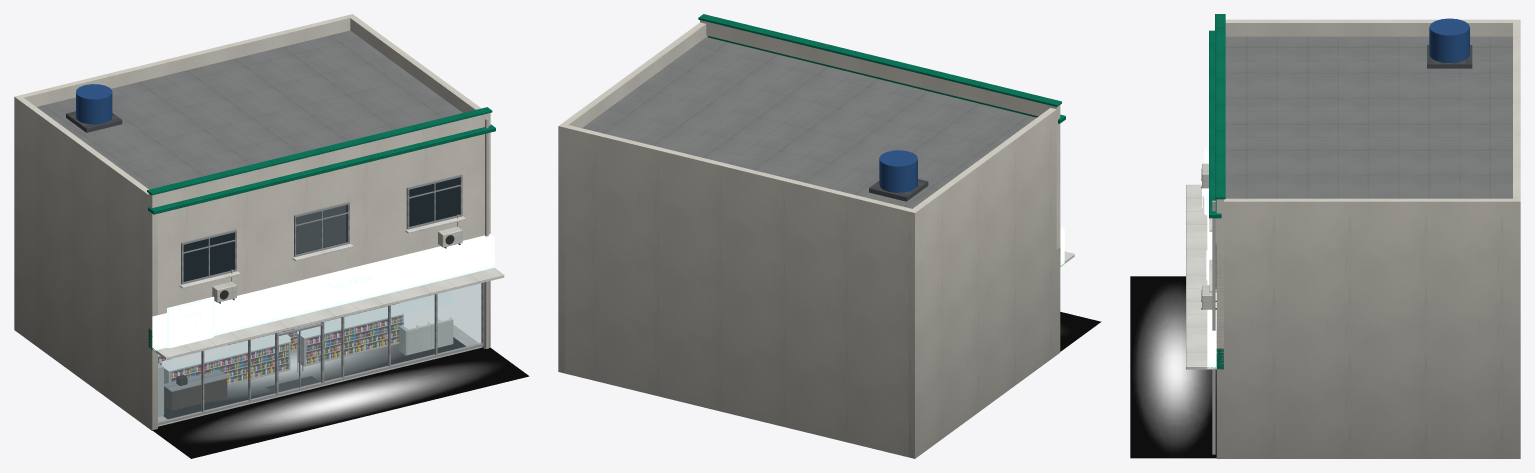
File: LM_SHOP_SevenEleven.glb
The picture shows the model from 3 angles, left to right: view 1: azimuth 30°, elevation 25°; view 2: azimuth 150°, elevation 25°; view 3: azimuth 270°, elevation 25°; orthographic projection. The views are drawn at different scales.
Parts seen in each view (by area): view 1: LM_SHOP_SevenEleven | Render wall, LM_SHOP_SevenEleven | Painted panel, LM_SHOP_SevenEleven | Shopfront glass, LM_SHOP_SevenEleven | Night wash, LM_SHOP_SevenEleven | Night glow sign, LM_SHOP_SevenEleven | Satin metal, LM_SHOP_SevenEleven | Upper floor glass, LM_SHOP_SevenEleven | Night glow shelves, LM_SHOP_SevenEleven | Night glow LED, LM_SHOP_SevenEleven | Plastic, LM_SHOP_SevenEleven | Floor tiles; view 2: LM_SHOP_SevenEleven | Render wall, LM_SHOP_SevenEleven | Painted panel, LM_SHOP_SevenEleven | Plastic, LM_SHOP_SevenEleven | Night wash; view 3: LM_SHOP_SevenEleven | Render wall, LM_SHOP_SevenEleven | Painted panel, LM_SHOP_SevenEleven | Night wash, LM_SHOP_SevenEleven | Plastic, LM_SHOP_SevenEleven | Night glow sign, LM_SHOP_SevenEleven | Satin metal.
Boxes of the visible parts, x1,y1,x2,y2 form: LM_SHOP_SevenEleven | Render wall: (14, 14, 490, 430); LM_SHOP_SevenEleven | Painted panel: (37, 30, 504, 416); LM_SHOP_SevenEleven | Shopfront glass: (158, 283, 481, 421); LM_SHOP_SevenEleven | Night wash: (152, 337, 529, 458); LM_SHOP_SevenEleven | Night glow sign: (152, 234, 494, 371); LM_SHOP_SevenEleven | Satin metal: (66, 111, 483, 425); LM_SHOP_SevenEleven | Upper floor glass: (183, 177, 460, 281); LM_SHOP_SevenEleven | Night glow shelves: (158, 303, 403, 383); LM_SHOP_SevenEleven | Night glow LED: (297, 206, 481, 343); LM_SHOP_SevenEleven | Plastic: (76, 84, 488, 385); LM_SHOP_SevenEleven | Floor tiles: (158, 324, 482, 426); LM_SHOP_SevenEleven | Render wall: (558, 20, 1060, 458); LM_SHOP_SevenEleven | Painted panel: (582, 14, 1074, 266); LM_SHOP_SevenEleven | Plastic: (879, 150, 917, 192); LM_SHOP_SevenEleven | Night wash: (1060, 312, 1101, 351); LM_SHOP_SevenEleven | Render wall: (1216, 19, 1520, 458); LM_SHOP_SevenEleven | Painted panel: (1186, 14, 1512, 369); LM_SHOP_SevenEleven | Night wash: (1130, 276, 1216, 458); LM_SHOP_SevenEleven | Plastic: (1201, 18, 1469, 454); LM_SHOP_SevenEleven | Night glow sign: (1202, 146, 1216, 368); LM_SHOP_SevenEleven | Satin metal: (1201, 45, 1472, 309).
Size of the model in its own units: 17.2 by 12 by 15.4.
12 materials, 6 textured.
